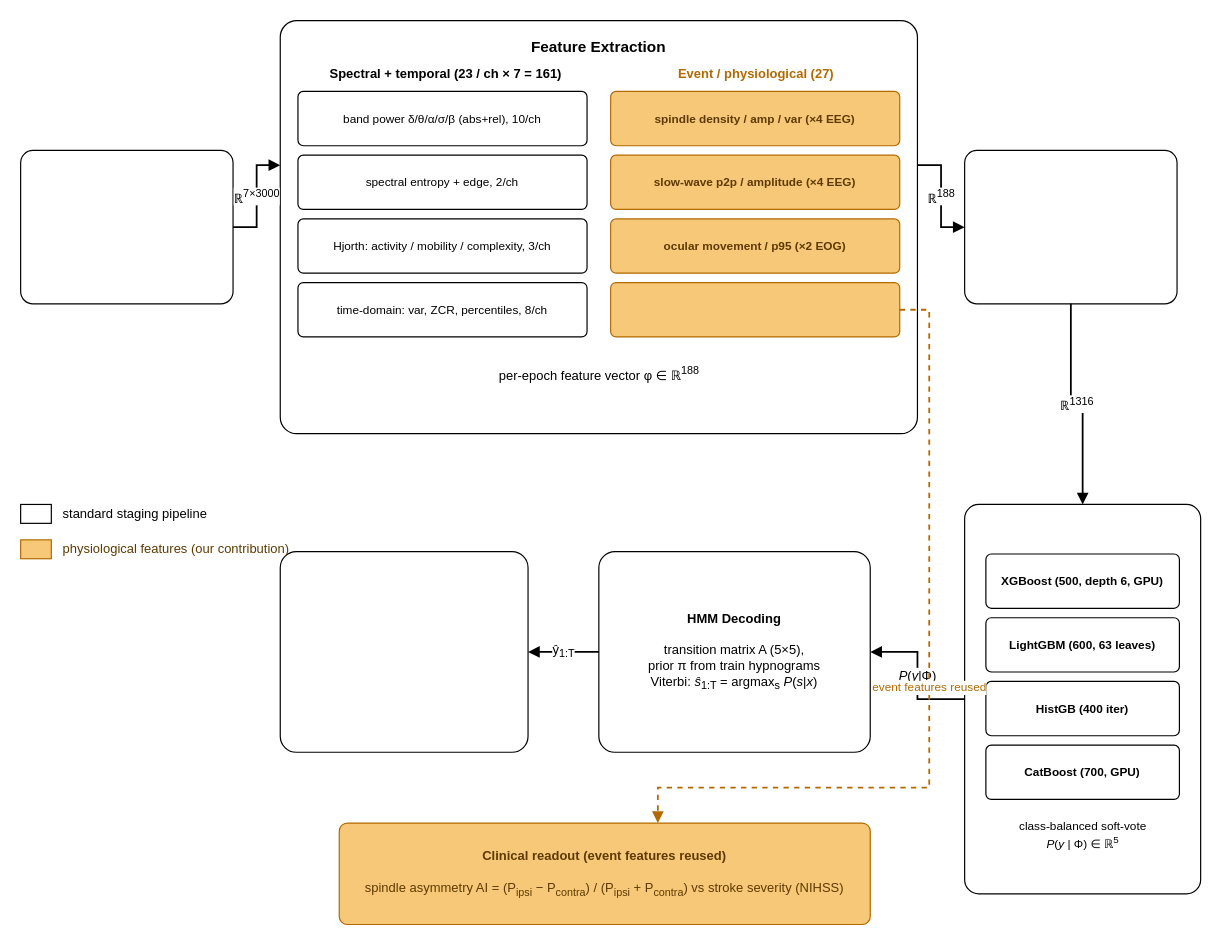
Image size: 1221x945. Some labels were removed from this diagram. The box of each missing label's shape, as (x1, y1, x2, y2) in pixels:
Boosting Ensemble: (963, 503, 1201, 894)
EMG log-RMS / p90 / diff-var: (609, 281, 900, 337)
Hypnogram 5-class sequence W N1 N2 N3 R 10-fold, subject-independent: (279, 550, 528, 752)
Input (PSG epoch) 7 ch × 3000 30 s @ 100 Hz EEG ×4, EOG ×2, EMG: (19, 149, 233, 304)
Temporal Context stack ±3 epochs 7-epoch window edge-padded: (963, 149, 1177, 304)
